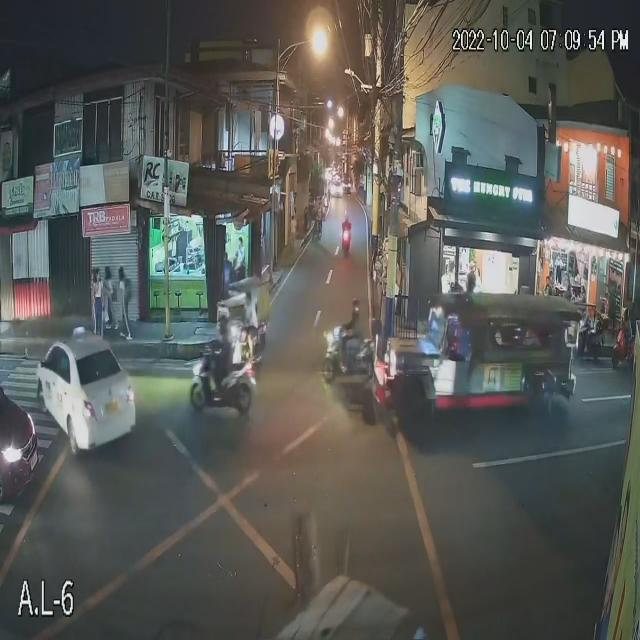helmet: (215, 316, 232, 335), (350, 300, 363, 317), (620, 306, 630, 319)
motorcycle: (188, 362, 259, 418), (320, 337, 375, 383), (609, 328, 638, 370), (342, 229, 353, 258)
rider: (334, 316, 365, 375), (211, 336, 230, 402), (618, 319, 631, 357), (340, 216, 353, 242)
